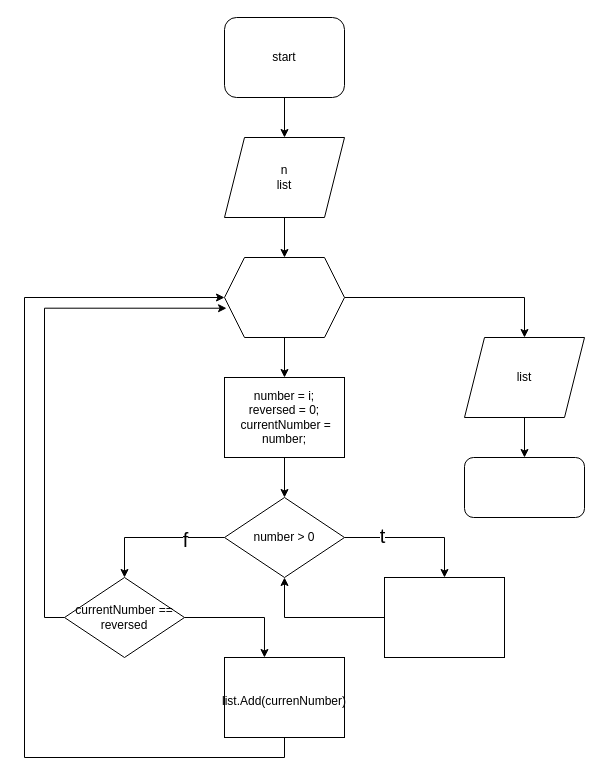
Image size: 602x783. Some labels were removed from this diagram. The shapes that lost their labels are listed below. From the top down, each one's box as (x1, y1, x2, y2) in pixels, then its label:
(224, 256, 344, 338): i = 0; n; 1
(464, 456, 584, 518): end
(384, 576, 504, 658): reversed *= 10; reversed += number % 10; number /= 10;
